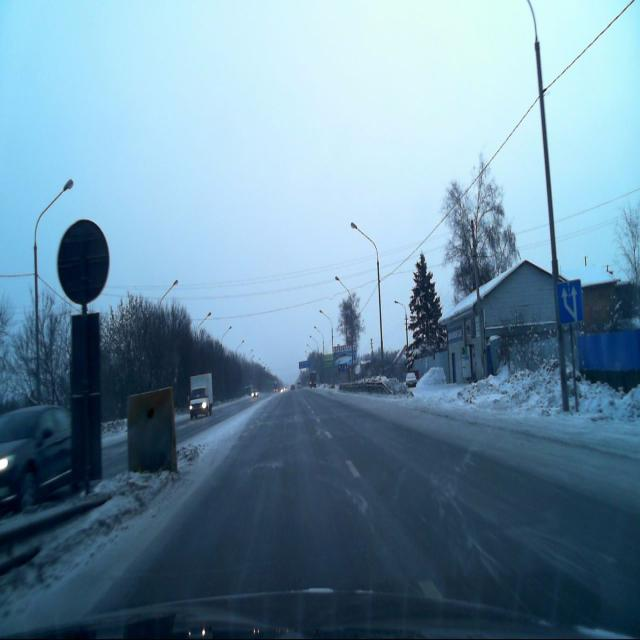object: (569, 326, 580, 414)
road sign: (556, 277, 584, 324)
